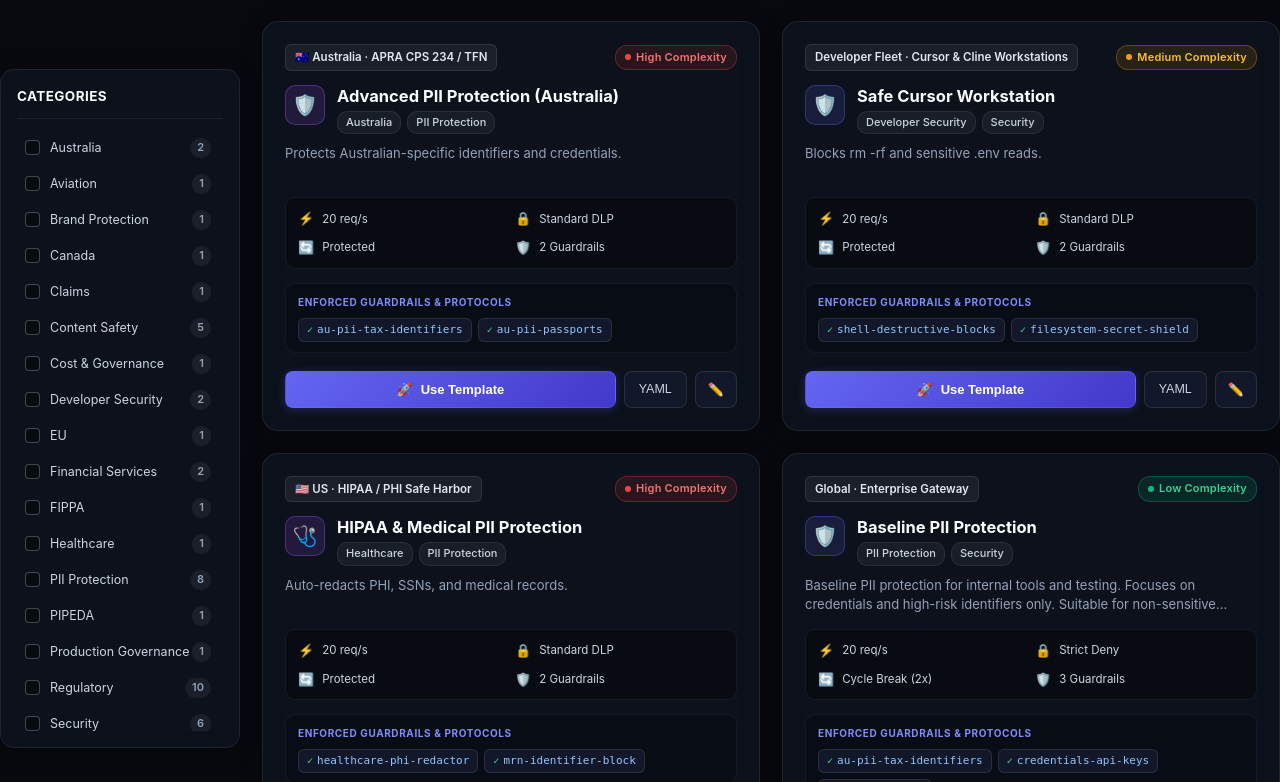
Test case: PolicyMarketplace › opens Use Template modal and deploys active posture
(page scrolled)
Expected: the heading "Advanced PII Protection (Australia)" is shown, [337, 86, 619, 106]
Step 1. Click the button "🚀 Use Template" below "au-pii-passports" → (450, 389), box [285, 371, 616, 408]
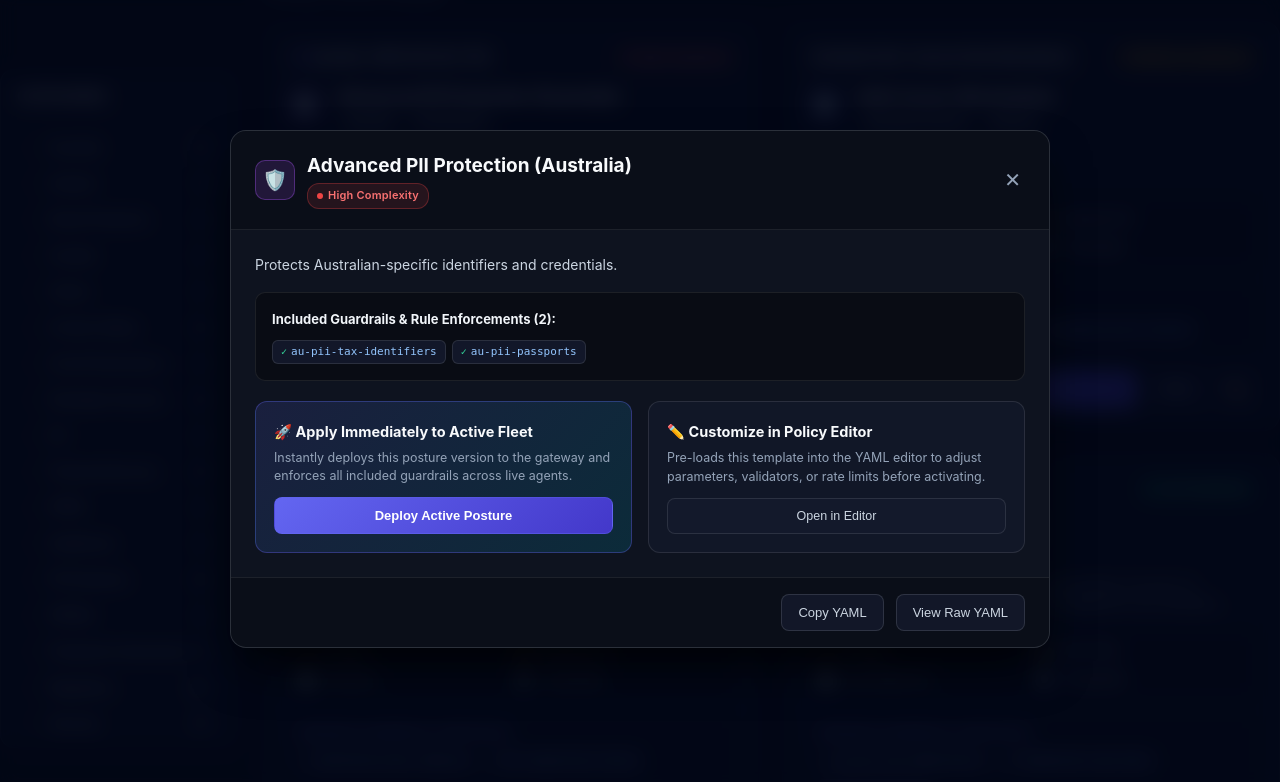
Result: the text "🚀 Apply Immediately to Active Fleet" is shown at [274, 423, 533, 440]
Step 2. Click the button "Deploy Active Posture" → (444, 516), box [274, 497, 613, 534]
(page scrolled)
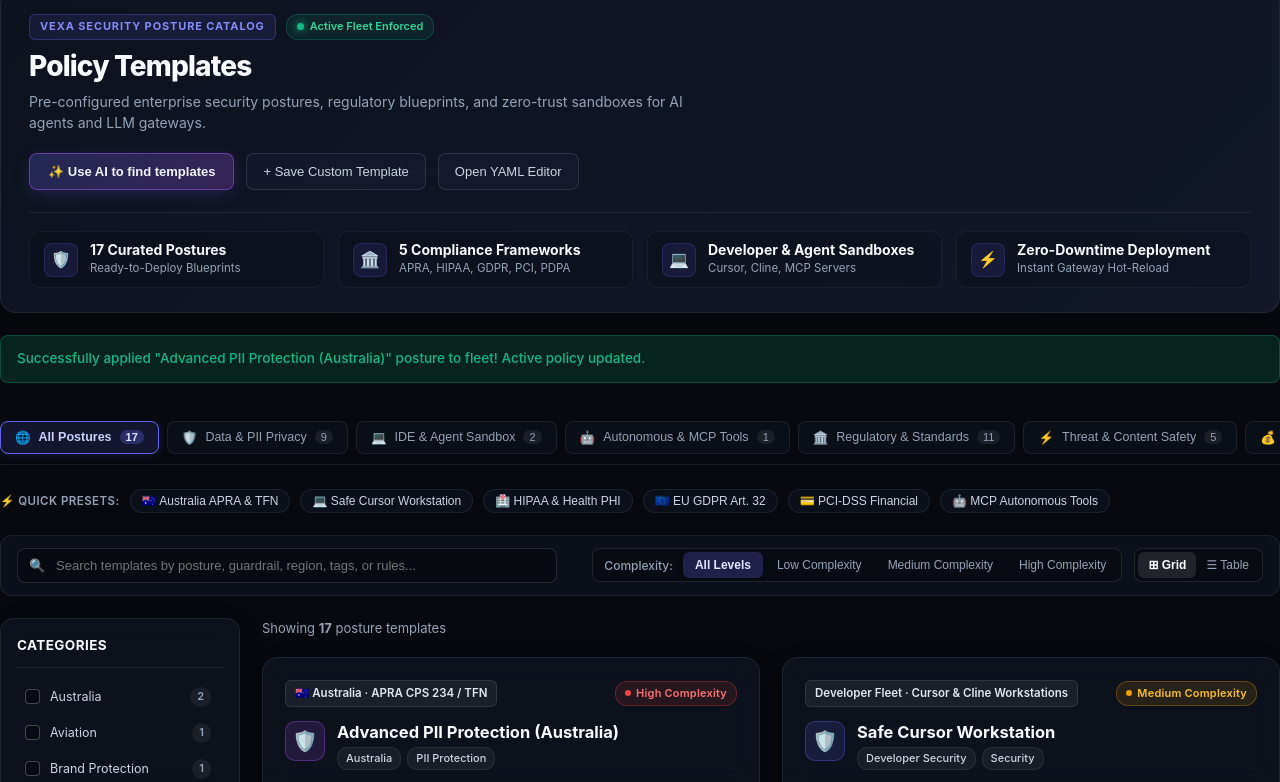
Result: the text "Successfully applied" is shown at [17, 350, 645, 366]
